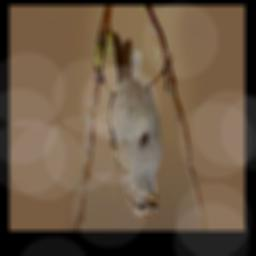Sparrow: (95, 34, 173, 218)
